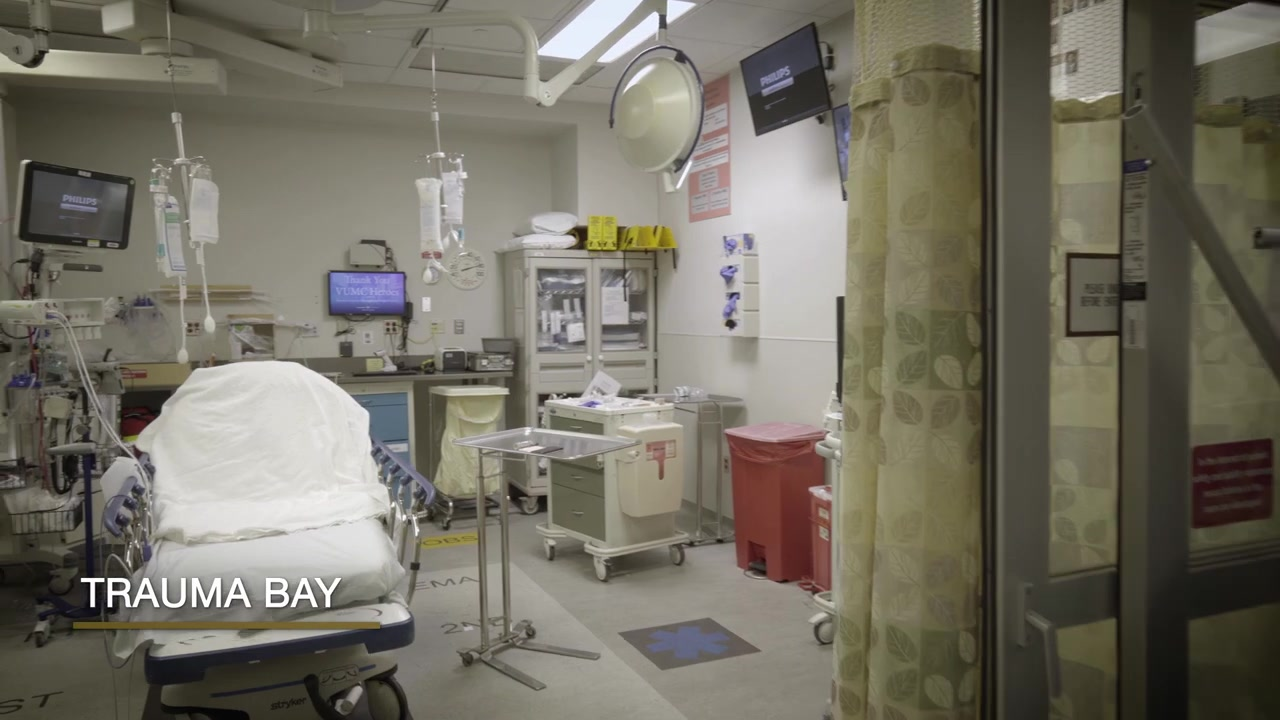TV: (740, 21, 831, 137)
bedrail: (370, 426, 437, 604), (99, 456, 152, 575)
bedside_monitor: (13, 158, 136, 250)
cabinet: (504, 249, 656, 514)
computer: (328, 271, 405, 316)
curtain: (833, 1, 985, 720)
dispenser: (718, 236, 761, 334)
door_handle: (1012, 579, 1064, 701)
handle: (568, 474, 585, 482), (356, 397, 375, 404), (596, 352, 609, 362), (571, 509, 585, 517), (585, 354, 594, 362)
keyboard: (352, 370, 417, 376)
medical_drawer: (545, 395, 686, 556)
medical_waste_container: (616, 419, 688, 519)
mouse: (423, 359, 436, 374)
operating_bed: (98, 358, 437, 684)
overbed_table: (452, 425, 642, 691)
surgical_light: (608, 44, 703, 173)
utility_cart: (653, 392, 744, 543)
waste_bin: (722, 422, 829, 583), (429, 384, 509, 528), (806, 485, 833, 584)
